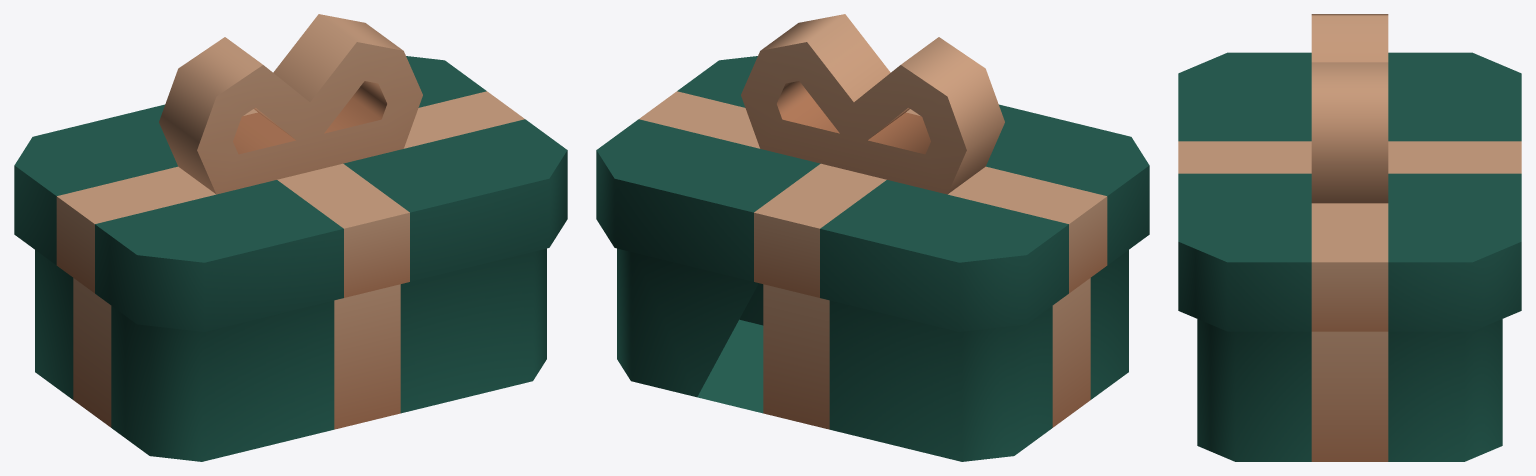
The model's file is present-b-rectangle.glb.
3 views of the same model, side by side, from view 1: azimuth 30°, elevation 25°; view 2: azimuth 150°, elevation 25°; view 3: azimuth 270°, elevation 25° (orthographic).
Parts seen in each view (by area): view 1: lid, present-b-rectangle; view 2: lid, present-b-rectangle; view 3: lid, present-b-rectangle.
Boxes of the visible parts, box(x1,y1,x2,y2) form: lid: box(14, 14, 567, 331); present-b-rectangle: box(35, 248, 546, 461); lid: box(596, 14, 1149, 331); present-b-rectangle: box(617, 248, 1128, 461); lid: box(1178, 14, 1521, 331); present-b-rectangle: box(1197, 319, 1502, 461).
Size of the model in its own units: 0.65 by 0.4707 by 0.45.
